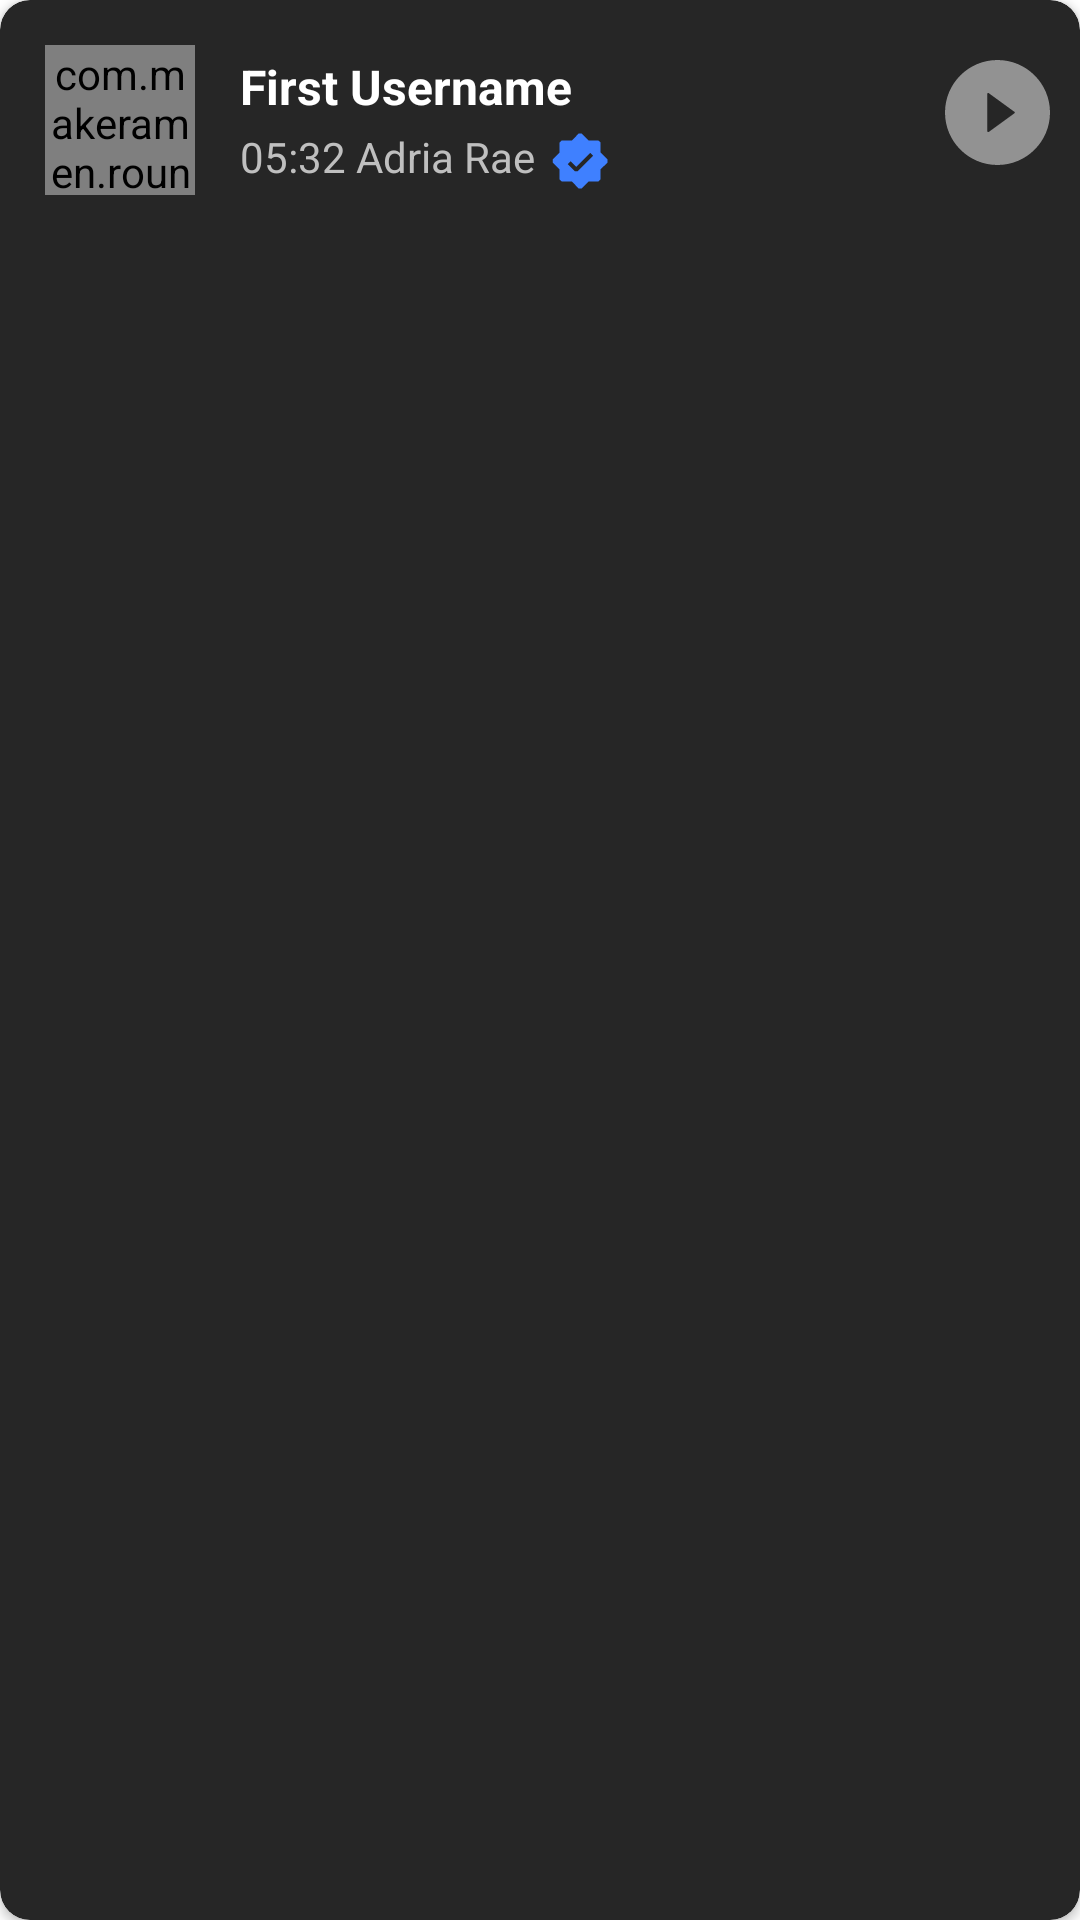

Icon bounding boxes for this 1080 × 1920 phone screenshot, format Rect(x1, y1, x2, y2):
mark: Rect(552, 133, 608, 189)
play: Rect(945, 60, 1050, 165)
